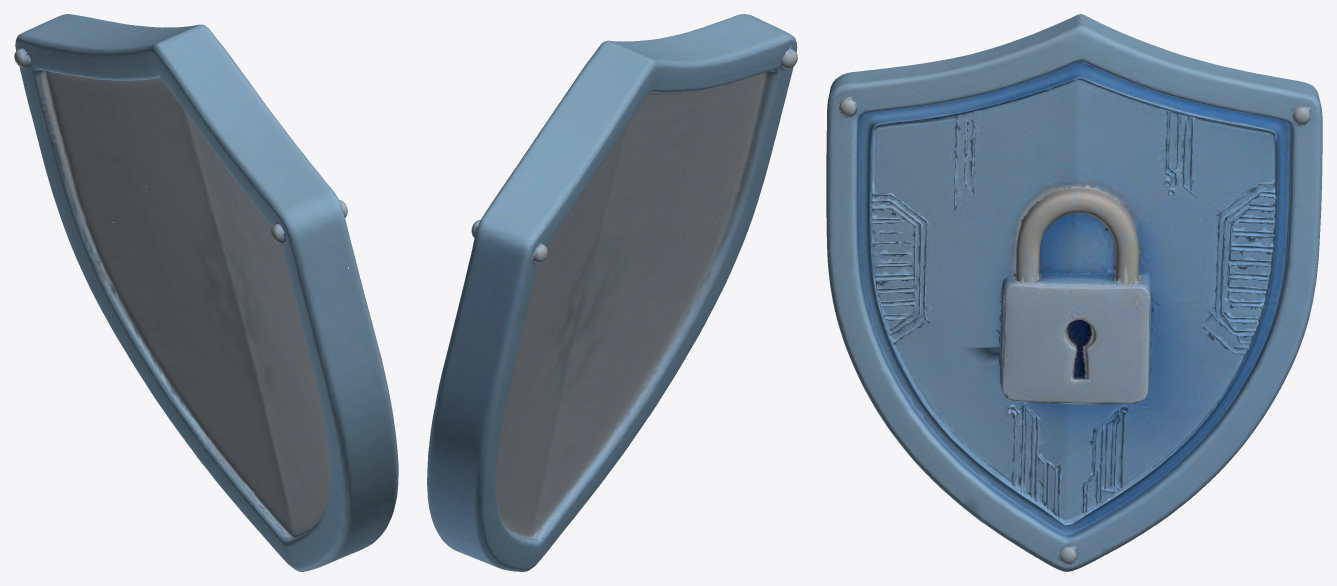
The model's file is shield.glb.
3 views of the same model, side by side, from view 1: azimuth 30°, elevation 25°; view 2: azimuth 150°, elevation 25°; view 3: azimuth 270°, elevation 25° (orthographic). The views are drawn at different scales.
Parts seen in each view (by area): view 1: tripo_node_f05e1ef9-444a-4396-a4be-fa0a2ed5d193; view 2: tripo_node_f05e1ef9-444a-4396-a4be-fa0a2ed5d193; view 3: tripo_node_f05e1ef9-444a-4396-a4be-fa0a2ed5d193.
Boxes of the visible parts, x1,y1,x2,y2 form: tripo_node_f05e1ef9-444a-4396-a4be-fa0a2ed5d193: (14,14,398,571); tripo_node_f05e1ef9-444a-4396-a4be-fa0a2ed5d193: (427,14,797,571); tripo_node_f05e1ef9-444a-4396-a4be-fa0a2ed5d193: (826,14,1322,571).
Size of the model in its own units: 0.3699 by 0.9791 by 0.8876.
Materials: 1 (1 with a texture image).
